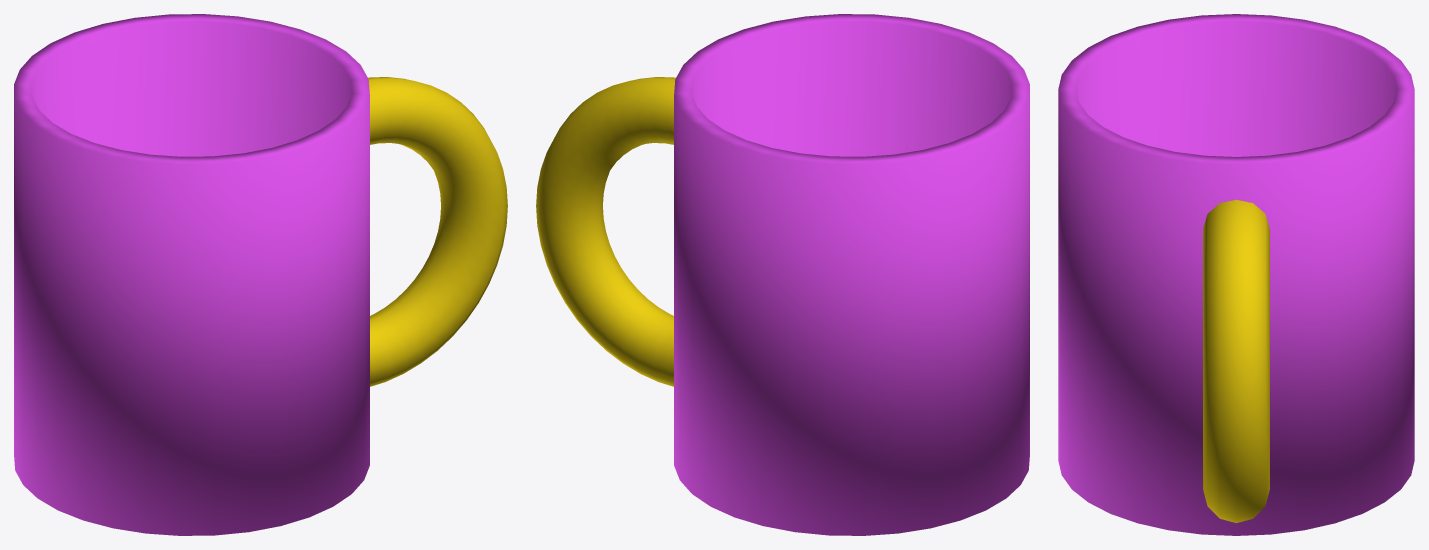
3 views of the same model, side by side, from view 1: azimuth 30°, elevation 25°; view 2: azimuth 150°, elevation 25°; view 3: azimuth 270°, elevation 25° (orthographic).
Parts seen in each view (by area): view 1: Cup; view 2: Cup; view 3: Cup.
Boxes of the visible parts, box(x1,y1,x2,y2) form: Cup: box(14, 14, 507, 535); Cup: box(536, 14, 1029, 535); Cup: box(1058, 14, 1414, 535).
Size of the model in its own units: 6.03 by 4.6 by 4.
